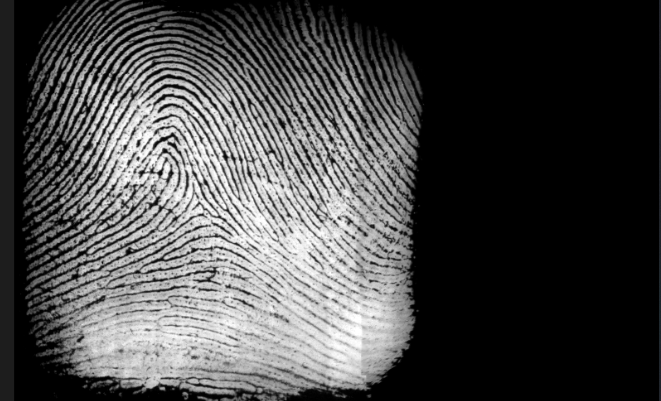deltas: (177, 181, 219, 220)
nucleo: (140, 144, 188, 195)
